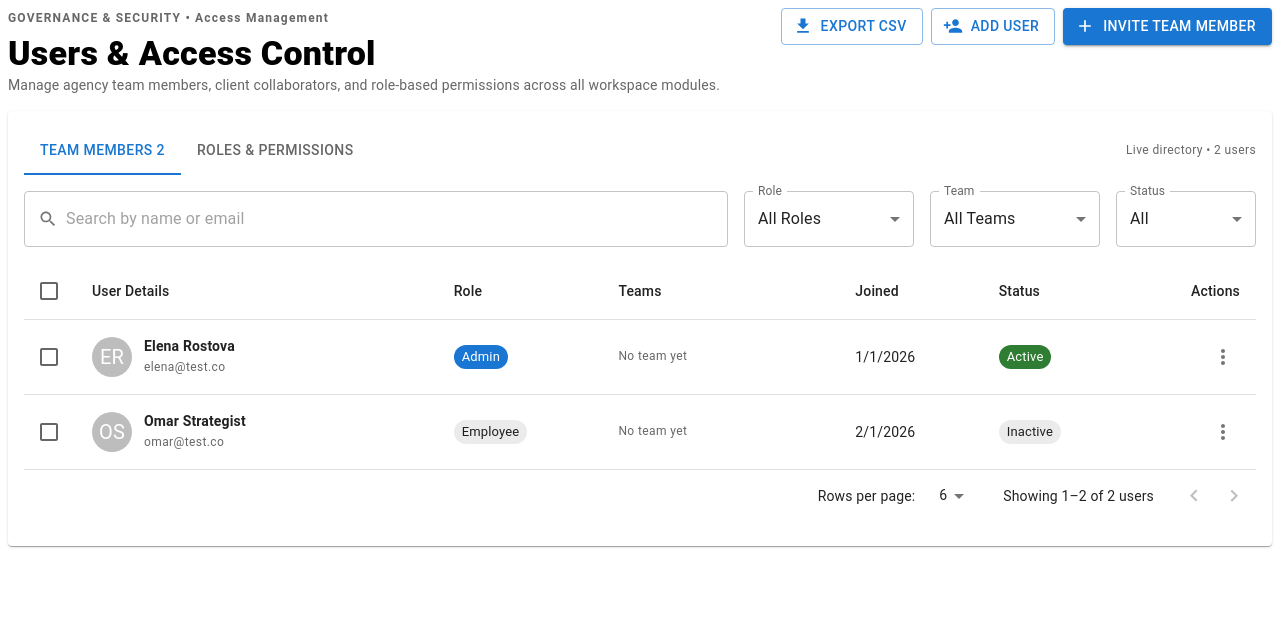
Test case: UsersPage › deactivates a user through the API and confirms
The width and height of the screenshot is (1280, 629).
Check: the text "Elena Rostova" is shown, box [144,336,235,356]
Click the button named "actions for elena rostova" at (1223, 357), box [1206,340,1240,374]
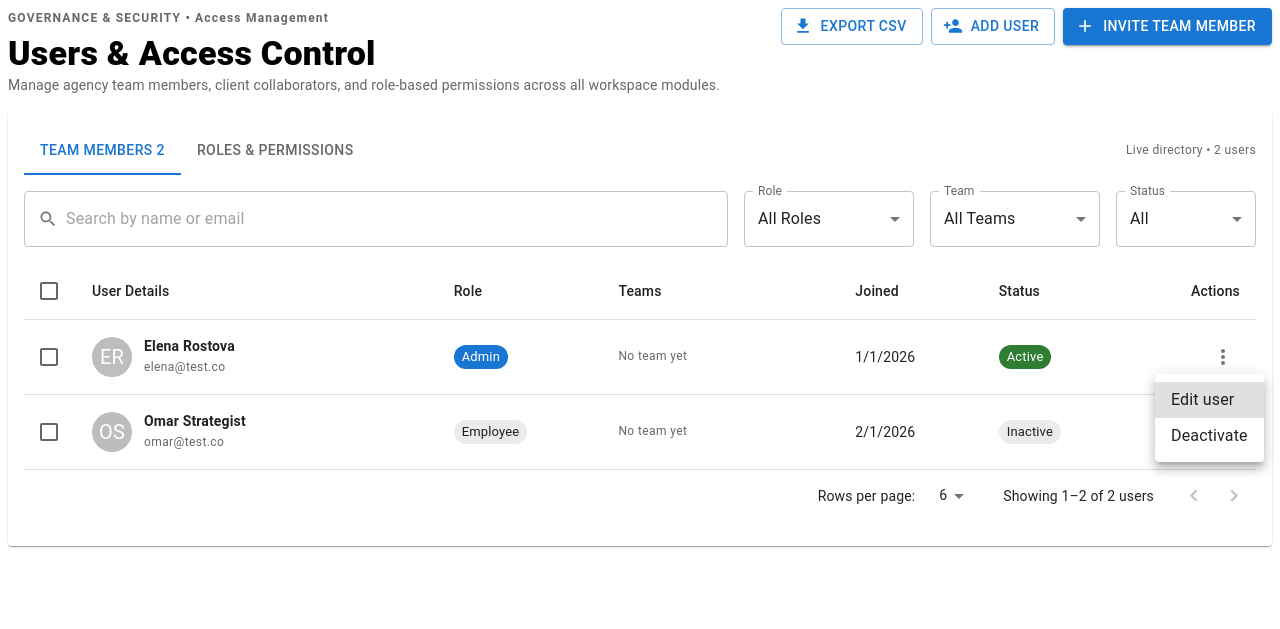
Click the menu item "Deactivate" at (1209, 436), box [1171,426,1248,445]
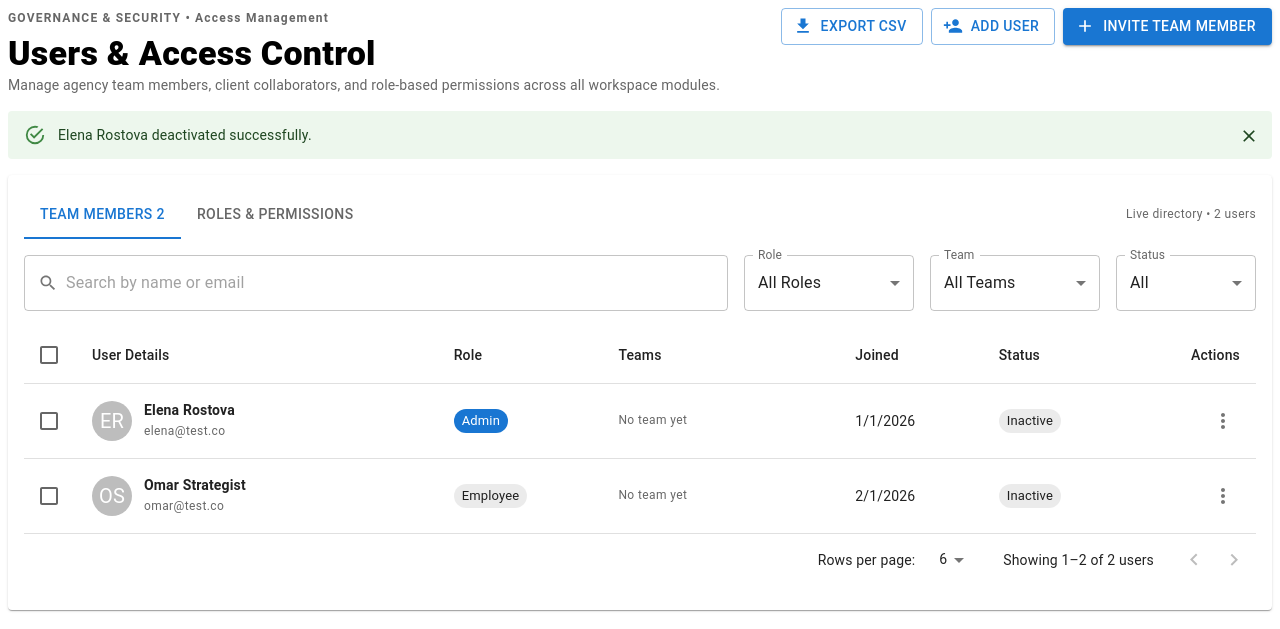
Check: the text "Elena Rostova deactivated successfully." is shown, box [58,127,312,143]
